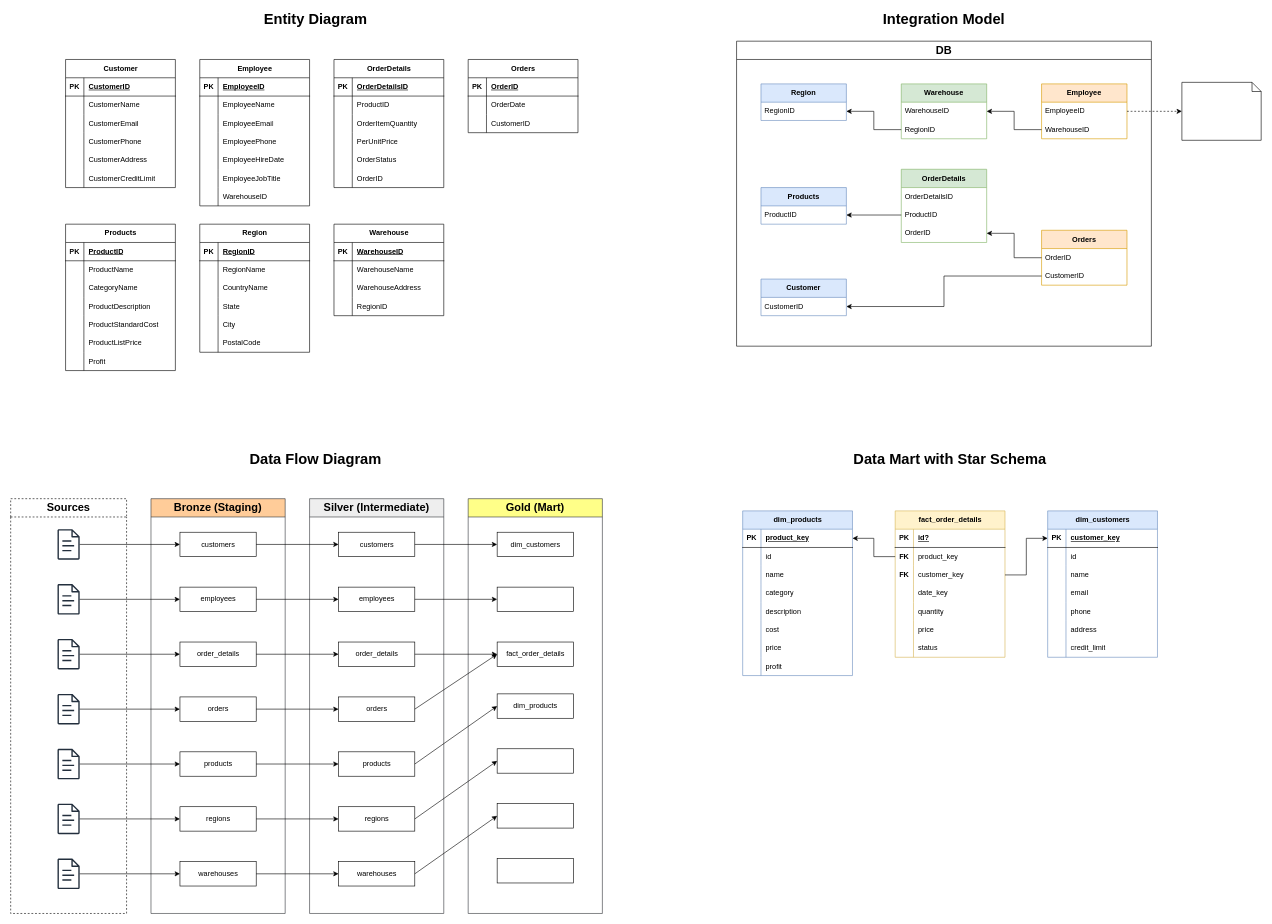
Some shapes in this 1272 by 924 pixel diagram are drawn without their labels. The shapes that lost their labels are listed below. From the top down, each one's centre as x and y in pixels, then its label:
At [1221,111]: "Might randomize EmployeeID in OrderDetails for extra challange insyaallah".
At [68,544]: "Customer.csv".
At [68,599]: "Employee.csv".
At [535,599]: "dim_employees".
At [68,654]: "OrderDetails.csv".
At [68,709]: "Orders.csv".
At [68,763]: "Product.csv".
At [535,760]: "dim_regions".
At [68,818]: "Region.csv".
At [535,815]: "dim_warehouses".
At [68,873]: "Warehouse.csv".
At [535,870]: "dim_dates".
